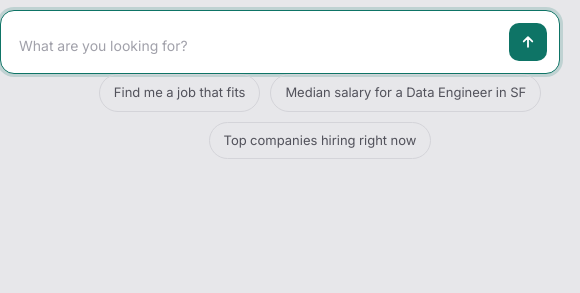
Scenario: Should_ShowRegisterCardAndKeepComposerEnabled_When_Capped: landing composer
Step 1. Type "Top companies hiring" into the text box labelled "What are you looking for" → (259, 46), box [19,30,499,61]
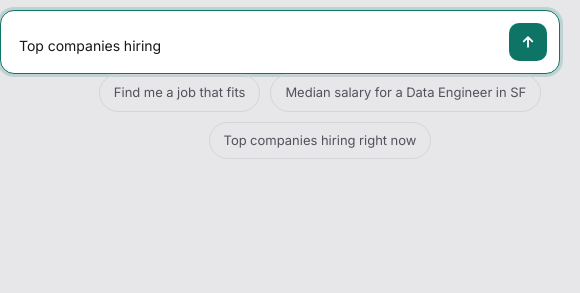
Step 2. Press Enter in the text box named "What are you looking for", box [19,30,499,61]
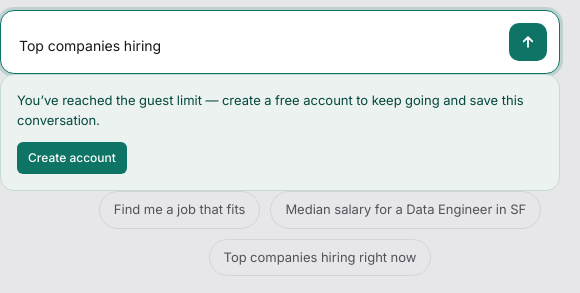
Expected: the element with class "register-card" is shown, [0,74,560,191]
Expected: the button "Create account" is shown, [17,142,127,174]
